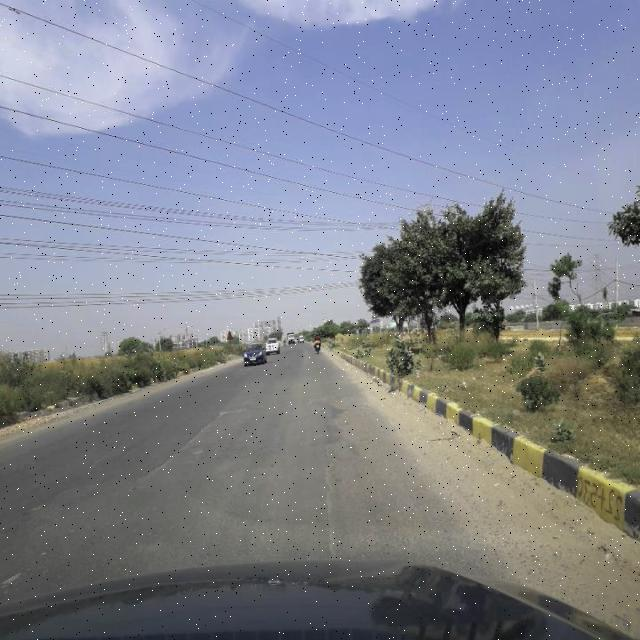D00: (146, 401, 228, 476), (318, 443, 340, 561)
